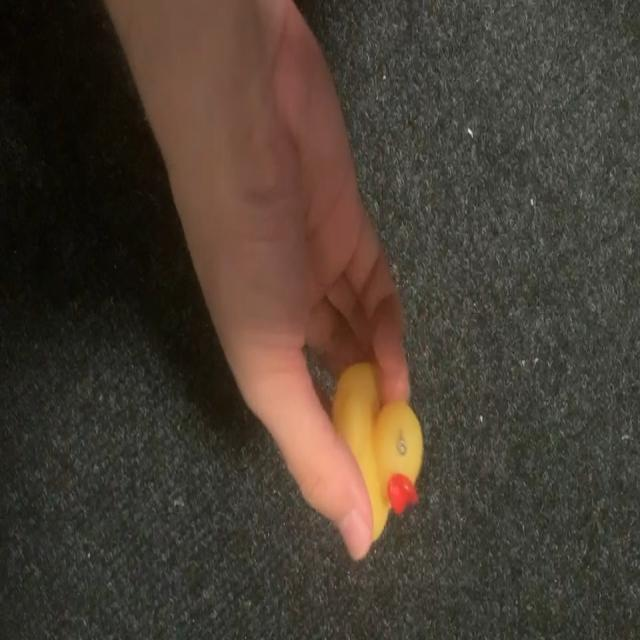rubber-duck: (332, 362, 422, 538)
